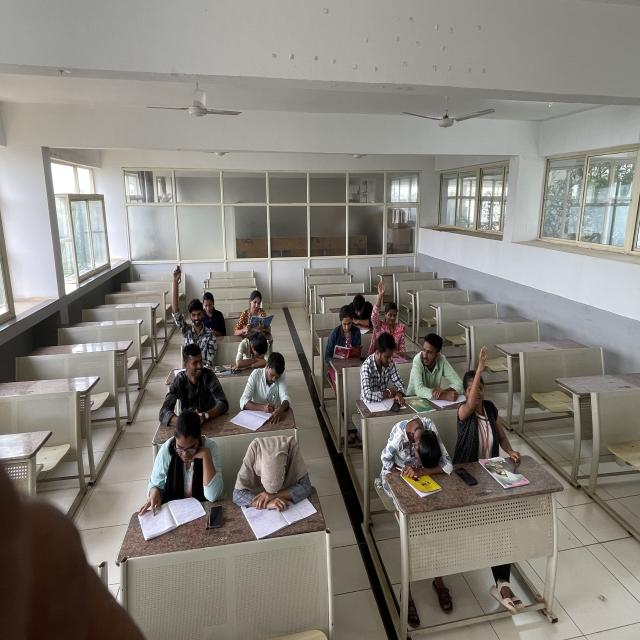Hand Rising: (455, 346, 518, 451), (165, 265, 214, 352), (372, 280, 412, 340)
Reading: (141, 412, 234, 516), (235, 292, 281, 339), (326, 308, 366, 359)
Sleeping: (234, 431, 318, 514), (377, 409, 451, 473), (231, 332, 276, 371)
Writing: (236, 352, 295, 423)
